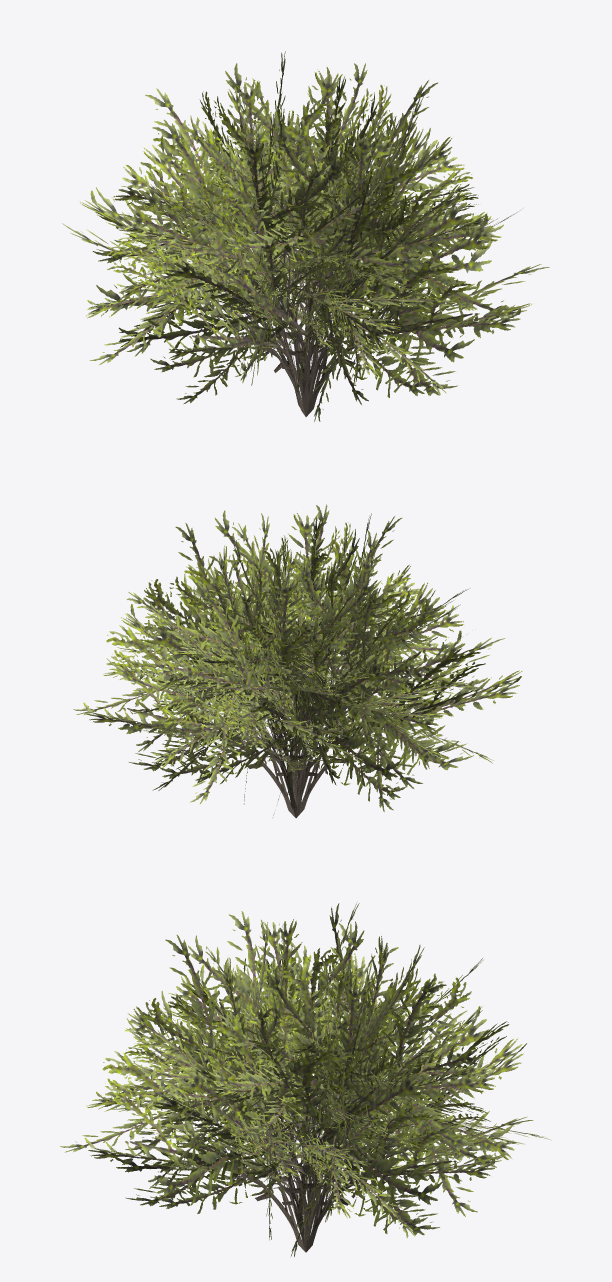
File: Bush_Sm01.fbx
3 views of the same model, one above another, from view 1: azimuth 30°, elevation 25°; view 2: azimuth 150°, elevation 25°; view 3: azimuth 270°, elevation 25° (orthographic). The views are drawn at different scales.
Visible parts, largest first — view 1: Bush_Sm01; view 2: Bush_Sm01; view 3: Bush_Sm01.
Boxes of the visible parts, x1,y1,x2,y2 form: Bush_Sm01: (62,51,549,421); Bush_Sm01: (73,504,522,818); Bush_Sm01: (60,903,551,1256).
Bounding box in the file's own units: 324 × 334 × 220.
1 material, 1 textured.
